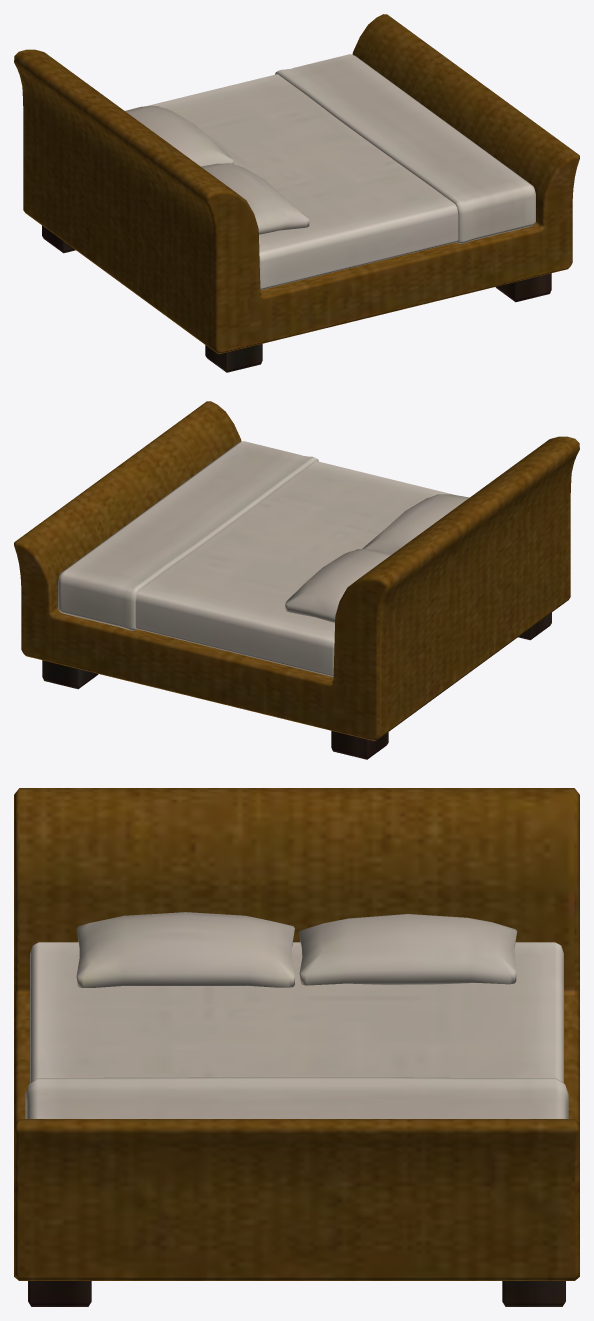
3 renders of one model, top to bottom at view 1: azimuth 30°, elevation 25°; view 2: azimuth 150°, elevation 25°; view 3: azimuth 270°, elevation 25°, orthographic. The views are drawn at different scales.
Size of the model in its own units: 19.78 by 9.56 by 17.81.
1 material, 1 textured.
